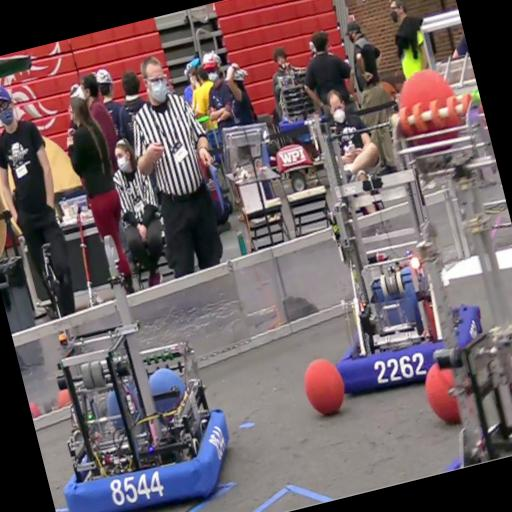robot: (5, 216, 242, 512), (276, 85, 495, 403), (418, 318, 512, 466)
